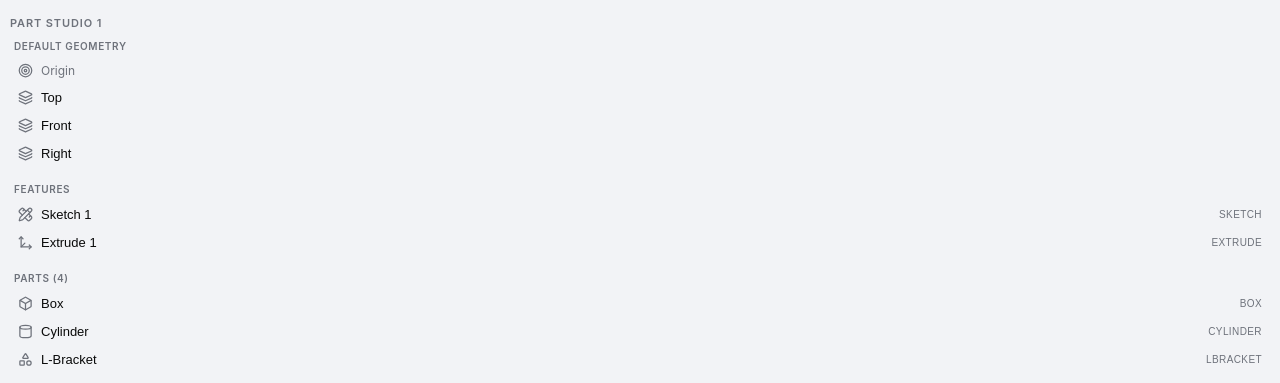
Scenario: FeatureTree › right-clicking an unselected row selects it and opens a delete context menu
Step 1. Right-click the button "Extrude 1 extrude" → (69, 242), box [10,229,1270,256]
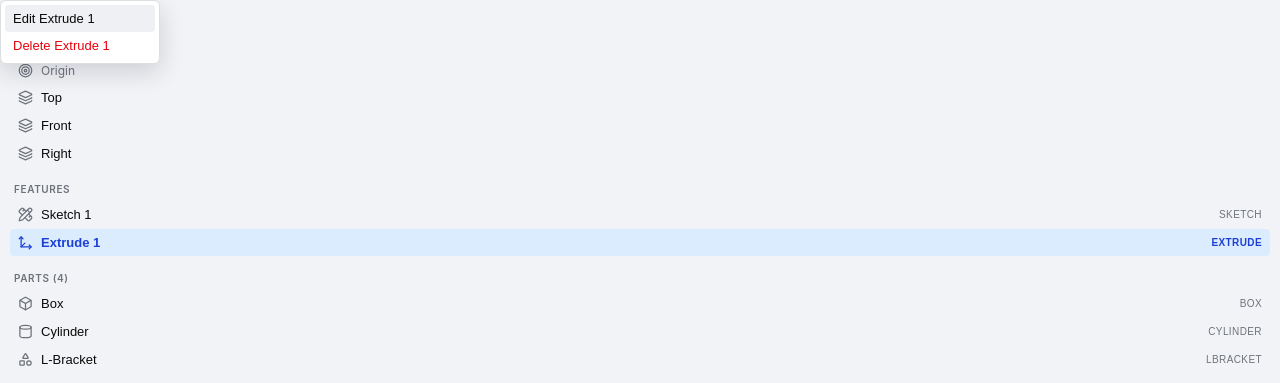
Expected: the menu is shown, [0,0,160,64]
Expected: the menu item "Delete Extrude 1" is shown, [5,32,155,59]
